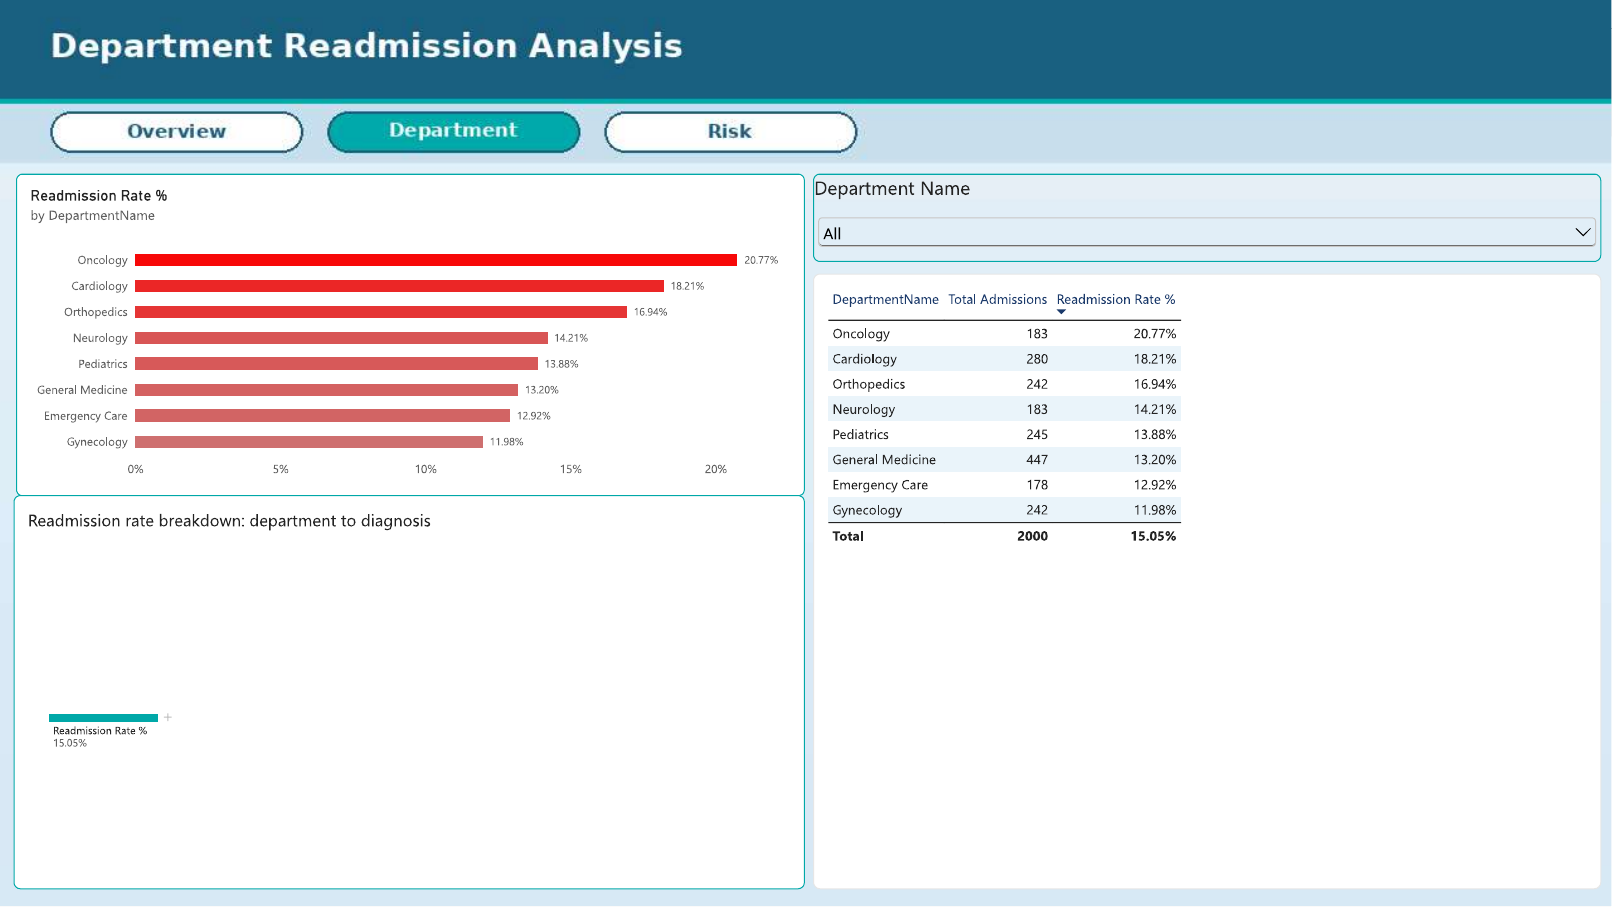

What the dashboard file says about the page in this screenshot:
{"tool":"powerbi","page":{"name":"Department","canvas":[1920,1080],"ordinal":1},"visuals":[{"type":"pageNavigator","box":[61.7,131.7,959.2,51.5],"z":0},{"type":"clusteredBarChart","fields":{"Category":["Departments.DepartmentName"],"Y":["Calculated_Admission_Table.Readmission Rate %"]},"box":[19.2,205.8,940.1,383.7],"z":1000},{"type":"decompositionTreeVisual","title":"Readmission rate breakdown: department to diagnosis","fields":{"Analyze":["Calculated_Admission_Table.Readmission Rate %"],"ExplainBy":["Patients.Age Group","Admissions.Diagnosis","Departments.DepartmentName"]},"box":[16.5,588.7,942.7,469.3],"z":2000},{"type":"slicer","title":"Department Name","fields":{"Values":["Departments.DepartmentName"]},"box":[969.5,205.8,938.6,105],"z":3000},{"type":"tableEx","fields":{"Values":["Departments.DepartmentName","Calculated_Admission_Table.Total Admissions","Calculated_Admission_Table.Readmission Rate %"]},"box":[969.5,325.2,938.6,732.8],"z":5000}]}

Visuals, with their boxes in screenshot pixels (x1, y1, x2, y2), scaled from the page's 1920x1080 canvas onto the 1612x907 screenshot:
pageNavigator: <box>52,111,857,154</box>
clusteredBarChart - Departments.DepartmentName x Calculated_Admission_Table.Readmission Rate %: <box>16,173,805,495</box>
"Readmission rate breakdown: department to diagnosis" decompositionTreeVisual: <box>14,494,805,889</box>
"Department Name" slicer: <box>814,173,1602,261</box>
tableEx - Departments.DepartmentName x Calculated_Admission_Table.Total Admissions: <box>814,273,1602,889</box>
